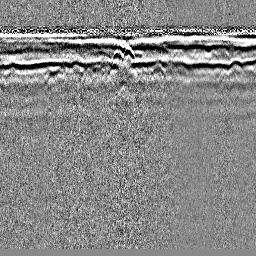cavity: (122, 43, 134, 59)
